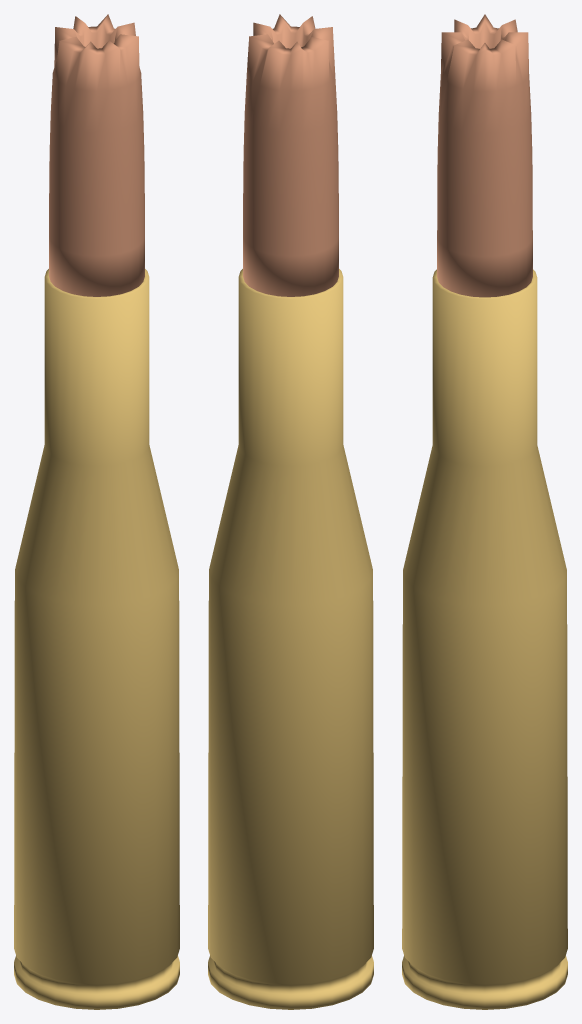
The picture shows the model from 3 angles, left to right: view 1: azimuth 30°, elevation 25°; view 2: azimuth 150°, elevation 25°; view 3: azimuth 270°, elevation 25°; orthographic projection.
Parts seen in each view (by area): view 1: vaina, bala_flor; view 2: vaina, bala_flor; view 3: vaina, bala_flor.
Part boxes in pixels (box(x1,y1,x2,y2)): vaina: box(14, 269, 179, 1009); bala_flor: box(49, 14, 144, 296); vaina: box(208, 269, 373, 1009); bala_flor: box(243, 14, 338, 296); vaina: box(402, 269, 567, 1009); bala_flor: box(437, 14, 532, 297).
Size of the model in its own units: 0.0149 by 0.0935 by 0.0149.
